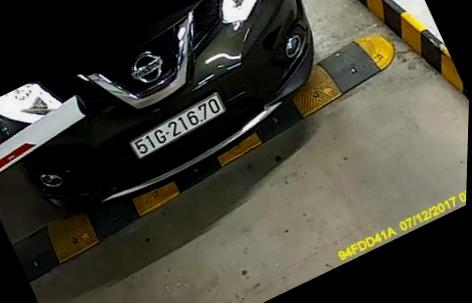License_Plate: (130, 88, 230, 164)
